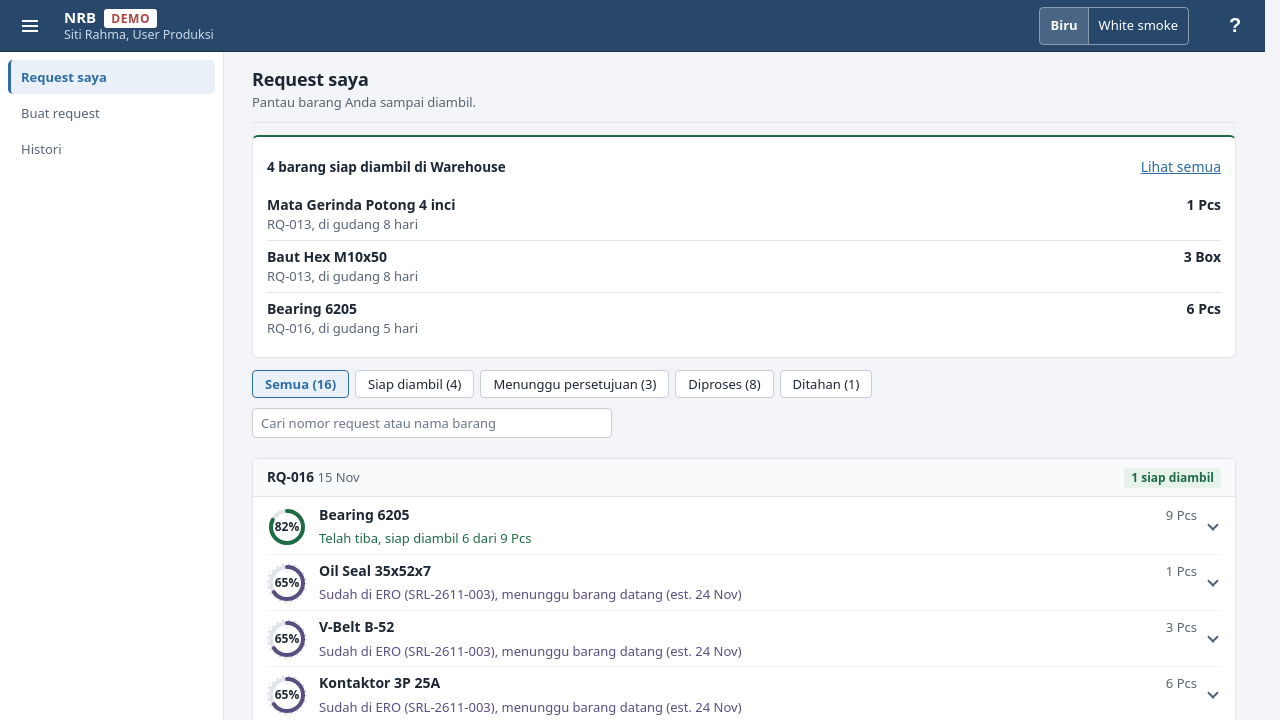
Test: Histori tidak ada di navbar bawah › di HP navbar bawah hanya Request saya dan Buat request; Histori ada di menu samping
The image size is (1280, 720).
Check: the button "Request saya" is shown, box [8,60,215,94]
Click the button named "Buka menu". click: x=30, y=26
box: [8,4,52,48]
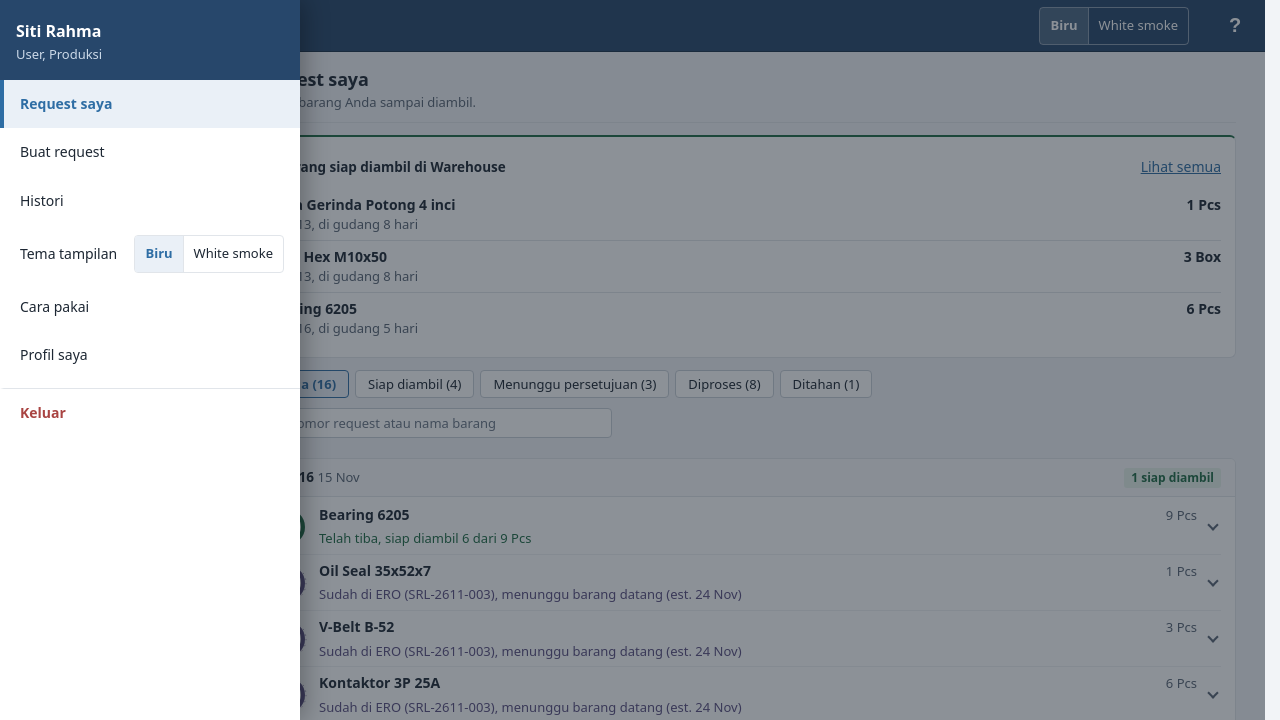
Click the button "Histori". click: x=42, y=200
box: [0,177,300,225]
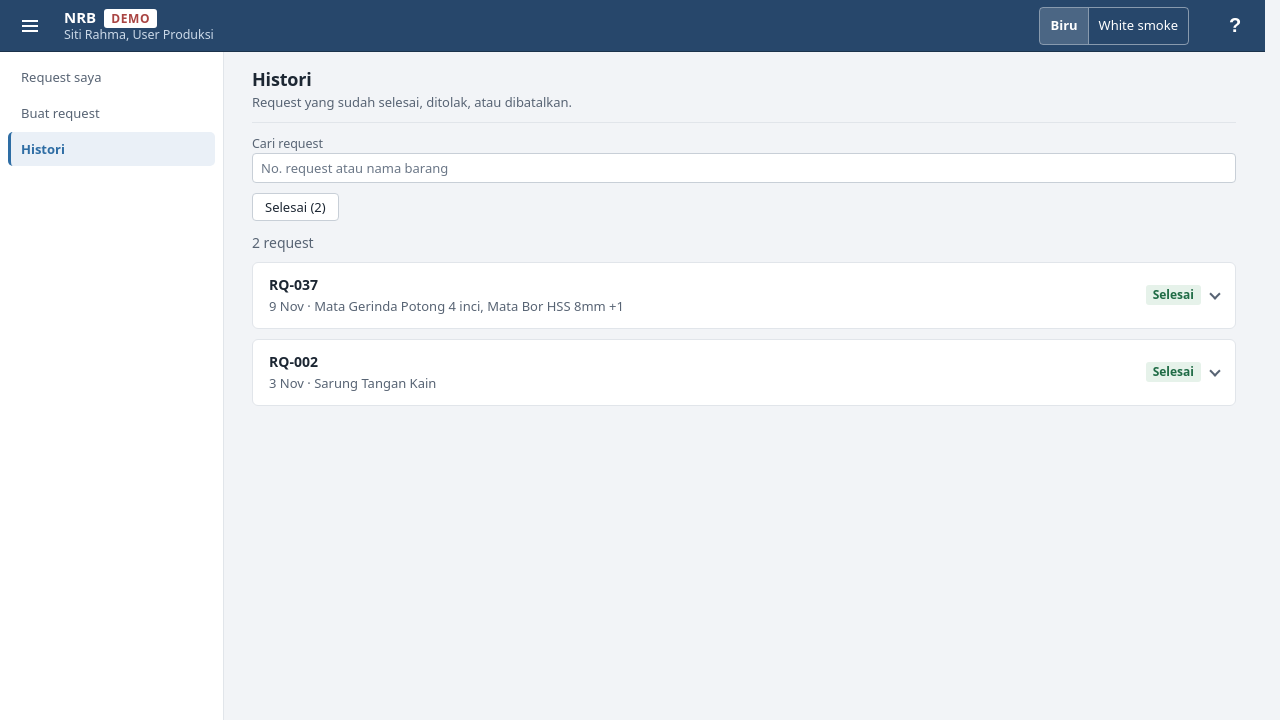
Check: the list named "histori" is shown, box [252,262,1236,406]
